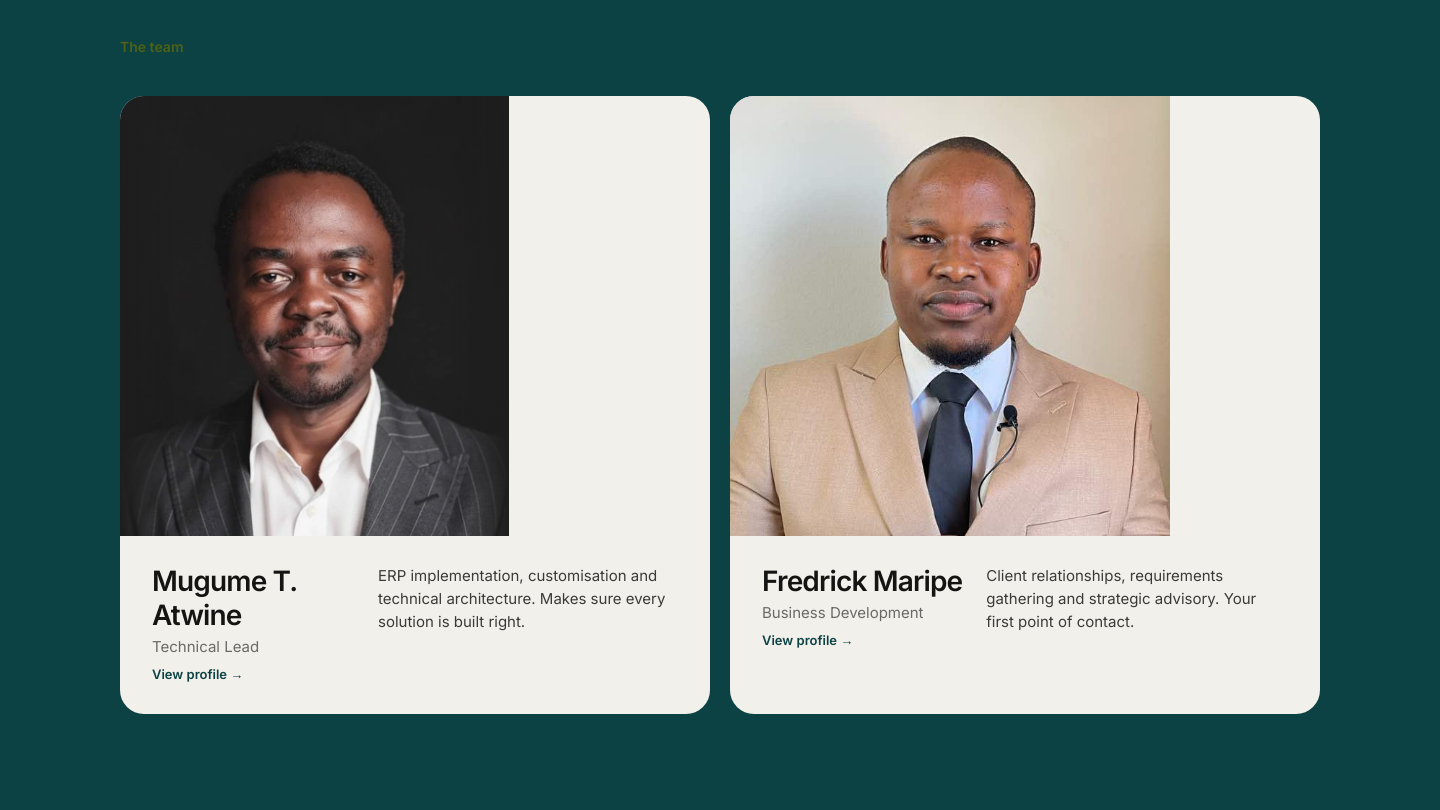
Test: About page › shows no LinkedIn link for a team member without one
The image size is (1440, 810).
(page scrolled)
Click the button "Fredrick Maripe".
click(1285, 405)  # box [730,96,1320,714]
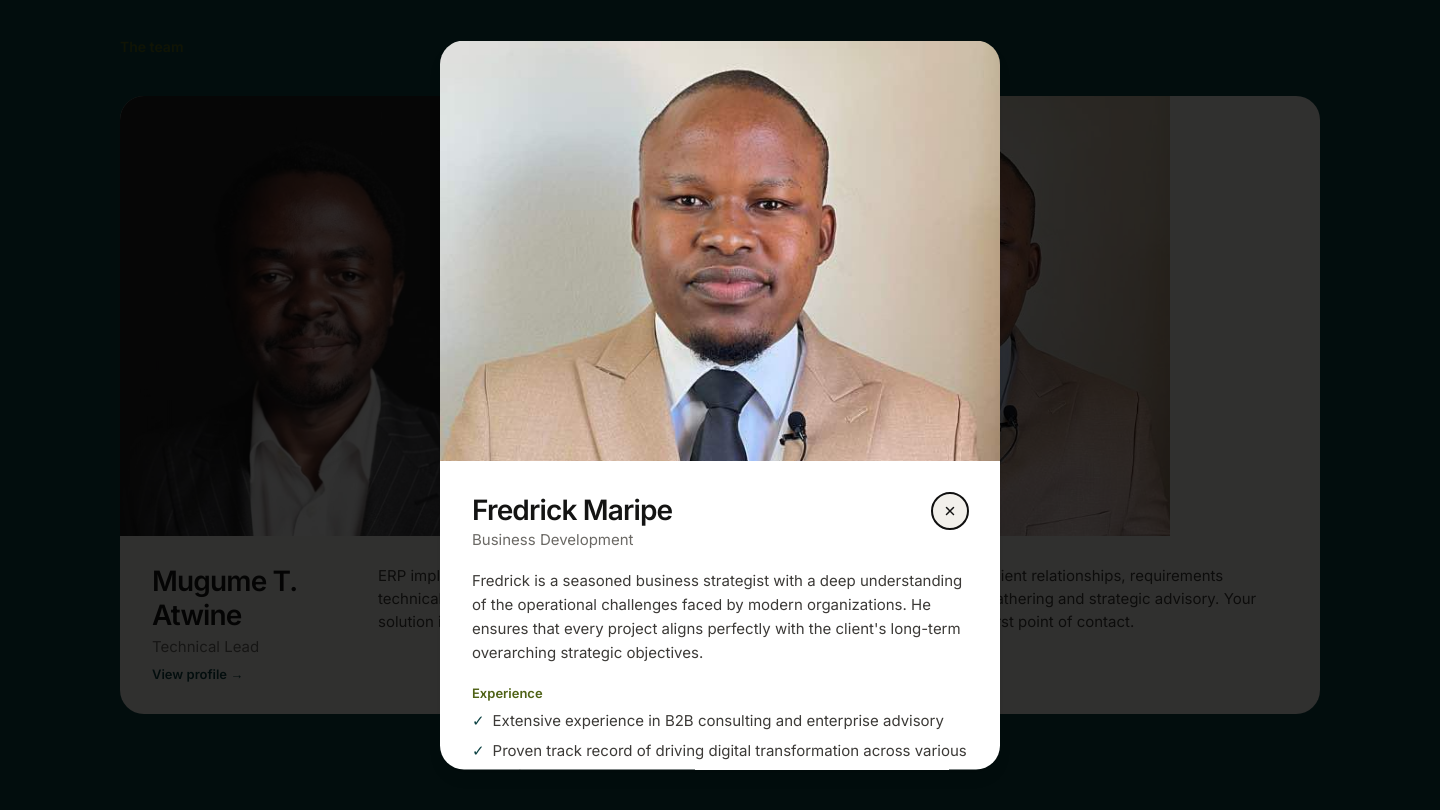
Expected: the text "seasoned business strategist" is shown, [472,570,962,662]
